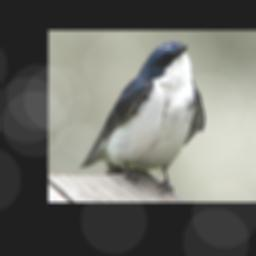Swallow: (78, 40, 206, 196)
